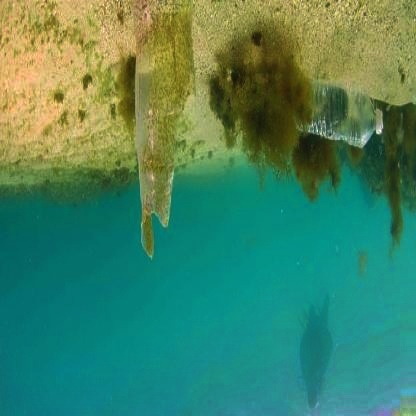pbottle: (126, 34, 179, 258), (287, 70, 390, 154)
